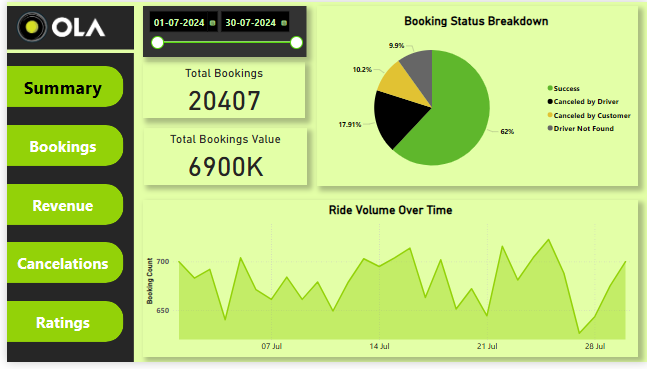

Layout of this report page (visuals, bound fields, positions):
{"tool":"powerbi","page":{"name":"Summary","canvas":[1280,720],"ordinal":1},"visuals":[{"type":"group","id":"g1","title":"Group 1","box":[0,102,253.7,618],"z":0,"group":"g2"},{"type":"shape","box":[0,102,253.7,618],"z":0,"group":"g1"},{"type":"image","box":[0,0,253.7,102],"z":1000,"group":"g2"},{"type":"actionButton","box":[0,363,233.3,82],"z":1000,"group":"g1"},{"type":"areaChart","title":"Ride Volume Over Time","fields":{"Category":["July.Date"],"Y":["CountNonNull(July.Booking_ID)"]},"box":[272.1,396.1,990.7,313.2],"z":1000},{"type":"pieChart","title":"Booking Status Breakdown","fields":{"Category":["July.Booking_Status"],"Y":["CountNonNull(July.Booking_Status)"]},"box":[620.8,7.7,642,360],"z":2000},{"type":"actionButton","box":[0,245.5,233.3,82],"z":2000,"group":"g1"},{"type":"card","title":"Total Bookings","fields":{"Values":["CountNonNull(July.Booking_ID)"]},"box":[272.1,119.7,324.6,113.4],"z":3000},{"type":"actionButton","box":[0,128,233.3,82],"z":3000,"group":"g1"},{"type":"card","title":"Total Bookings Value","fields":{"Values":["Sum(July.Booking_Value)"]},"box":[273.5,252.9,326,113.4],"z":4000},{"type":"actionButton","box":[0,480.5,233.3,82],"z":4000,"group":"g1"},{"type":"slicer","title":"Date","fields":{"Values":["July.Date"]},"box":[272.1,7.7,327.4,102],"z":5000},{"type":"actionButton","box":[0,598,233.3,82],"z":5000,"group":"g1"},{"type":"group","id":"g2","title":"Group 2","box":[0,0,253.7,720],"z":6002}]}

Visuals, with their boxes in screenshot pixels (x1, y1, x2, y2), scaled from the page's 1280x720 canvas onto the 647x369 screenshot:
"Group 1" group: {"x1": 0, "y1": 52, "x2": 128, "y2": 368}
shape: {"x1": 0, "y1": 52, "x2": 128, "y2": 368}
image: {"x1": 0, "y1": 0, "x2": 128, "y2": 52}
actionButton: {"x1": 0, "y1": 186, "x2": 118, "y2": 228}
"Ride Volume Over Time" areaChart: {"x1": 138, "y1": 203, "x2": 638, "y2": 364}
"Booking Status Breakdown" pieChart: {"x1": 314, "y1": 4, "x2": 638, "y2": 188}
actionButton: {"x1": 0, "y1": 126, "x2": 118, "y2": 168}
"Total Bookings" card: {"x1": 138, "y1": 61, "x2": 302, "y2": 119}
actionButton: {"x1": 0, "y1": 66, "x2": 118, "y2": 108}
"Total Bookings Value" card: {"x1": 138, "y1": 130, "x2": 303, "y2": 188}
actionButton: {"x1": 0, "y1": 246, "x2": 118, "y2": 288}
"Date" slicer: {"x1": 138, "y1": 4, "x2": 303, "y2": 56}
actionButton: {"x1": 0, "y1": 306, "x2": 118, "y2": 348}
"Group 2" group: {"x1": 0, "y1": 0, "x2": 128, "y2": 368}
